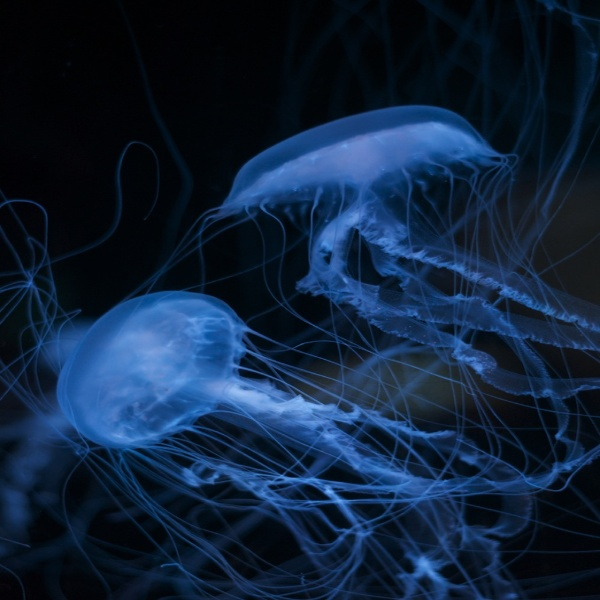Jellyfish: (0, 289, 599, 599), (107, 98, 599, 461), (176, 101, 599, 466)
